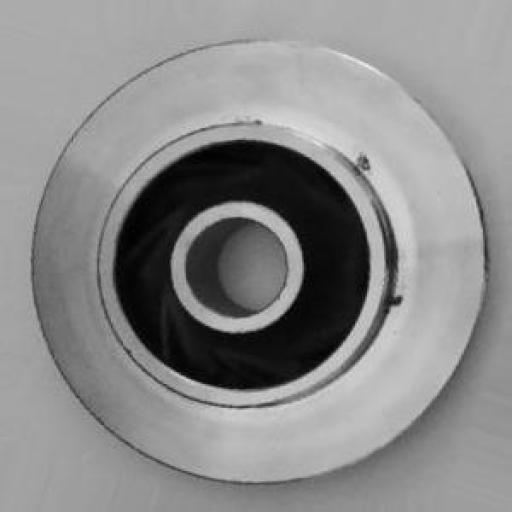defect: (346, 137, 420, 338)
